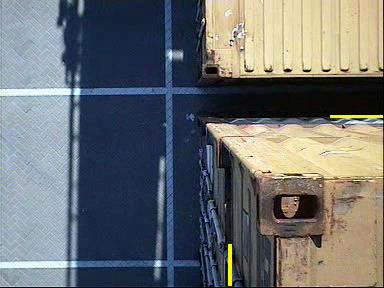groundmarker_2: (140, 85, 195, 125), (142, 228, 197, 268)
